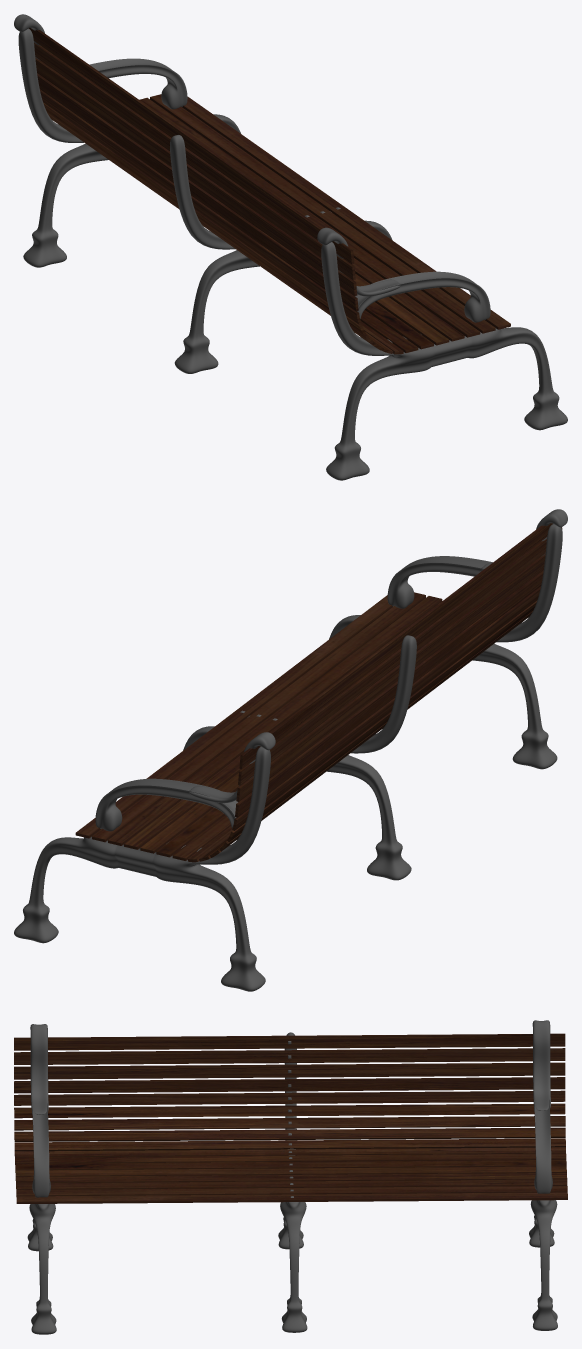
Rendered from pad.glb.
3 views of the same model, one above another, from view 1: azimuth 30°, elevation 25°; view 2: azimuth 150°, elevation 25°; view 3: azimuth 270°, elevation 25° (orthographic). The views are drawn at different scales.
Parts seen in each view (by area): view 1: pad_jo2; view 2: pad_jo2; view 3: pad_jo2.
Part boxes in pixels (x1,y1,x2,y2): pad_jo2: (14,14,567,480); pad_jo2: (14,509,567,991); pad_jo2: (14,1020,567,1334).
Size of the model in its own units: 1.06 by 0.9927 by 2.33.
Materials: 3 (1 with a texture image).
